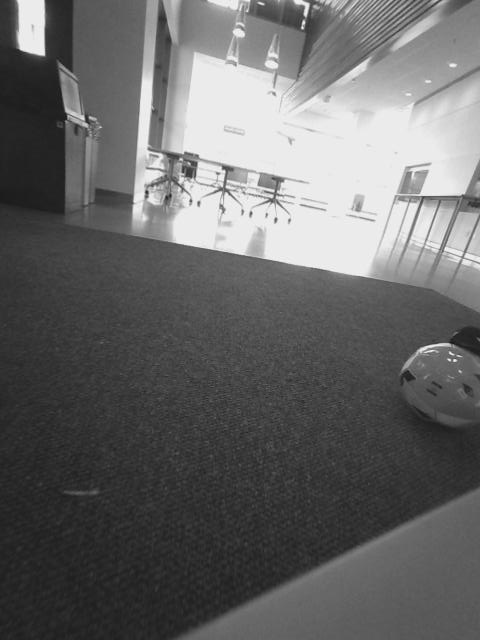ball: (390, 340, 480, 431)
